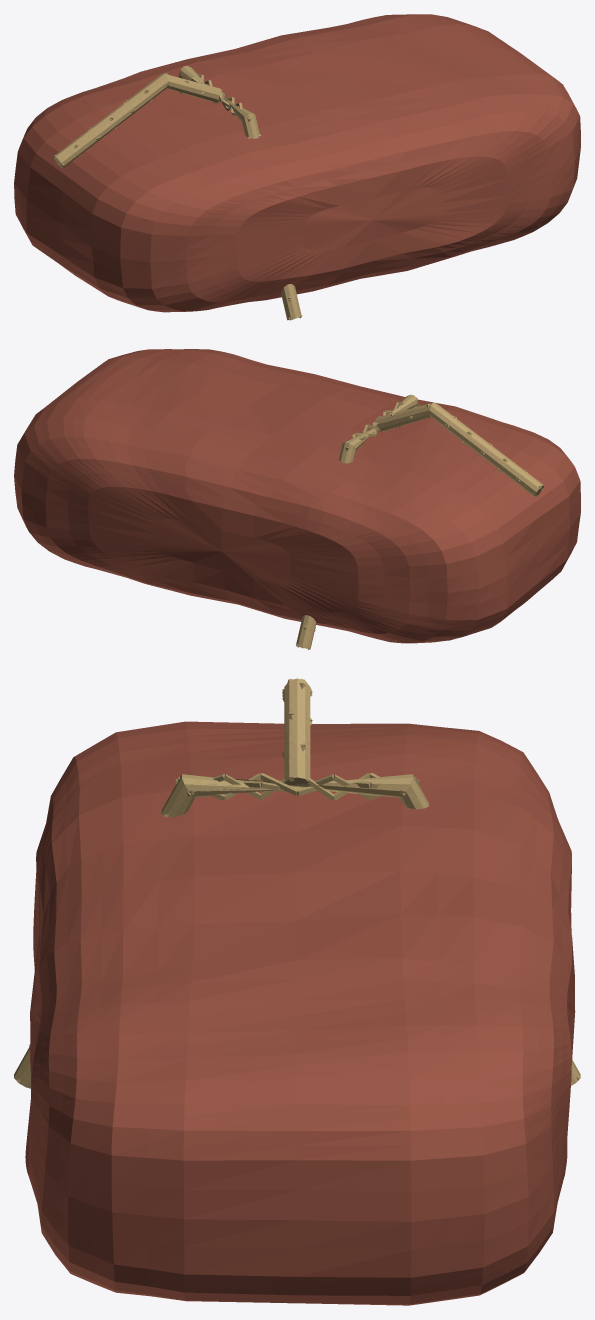
Rendered from carne_defumada.glb.
3 renders of one model, top to bottom at view 1: azimuth 30°, elevation 25°; view 2: azimuth 150°, elevation 25°; view 3: azimuth 270°, elevation 25°, orthographic. The views are drawn at different scales.
Visible parts, largest first — view 1: carne_defumada_carne_seca, carne_defumada_corda; view 2: carne_defumada_carne_seca, carne_defumada_corda; view 3: carne_defumada_carne_seca, carne_defumada_corda.
Boxes of the visible parts, x1,y1,x2,y2 form: carne_defumada_carne_seca: [14, 14, 580, 312]; carne_defumada_corda: [54, 65, 302, 320]; carne_defumada_carne_seca: [14, 349, 580, 643]; carne_defumada_corda: [296, 394, 543, 649]; carne_defumada_carne_seca: [25, 721, 575, 1305]; carne_defumada_corda: [14, 678, 580, 1088].
Bounding box in the file's own units: 0.1823 × 0.0736 × 0.1043.
3 materials, 1 textured.
